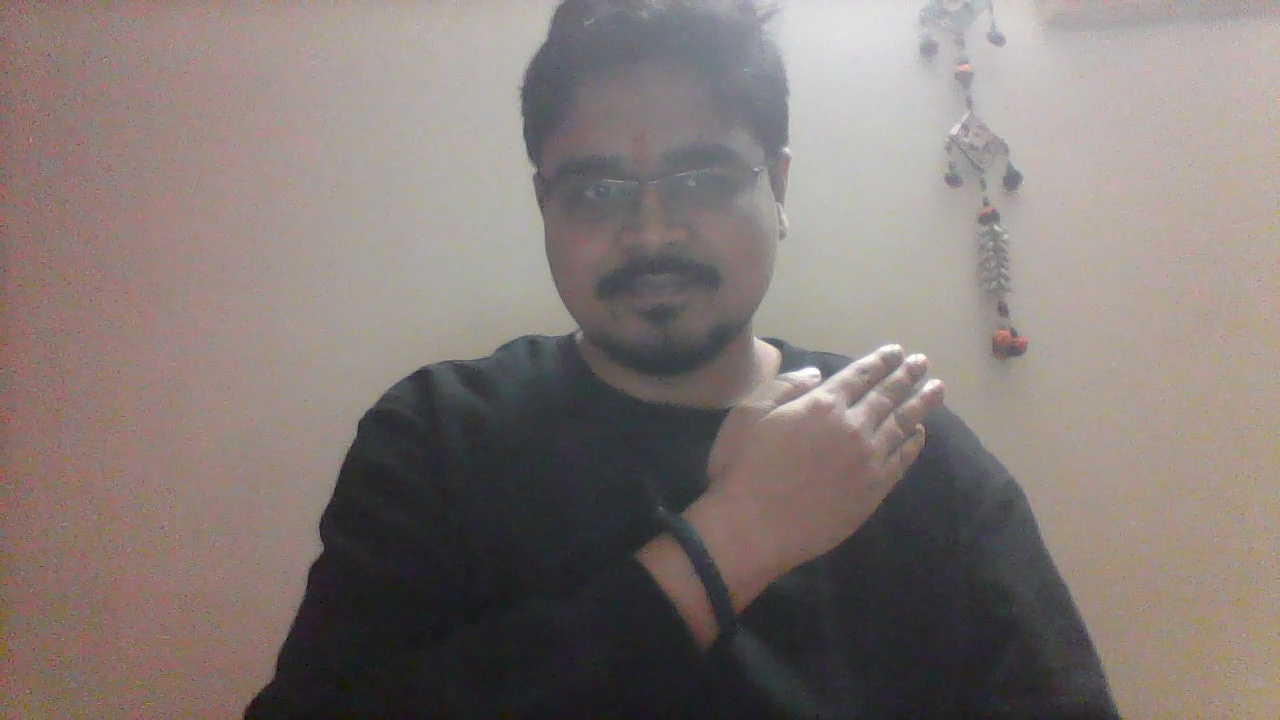Please: (709, 343, 945, 591)
